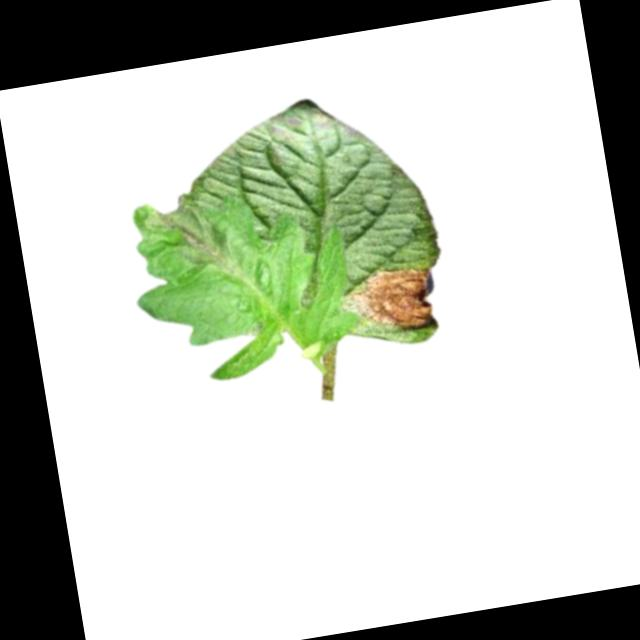Late_blight: (343, 261, 442, 341), (142, 194, 231, 278)
